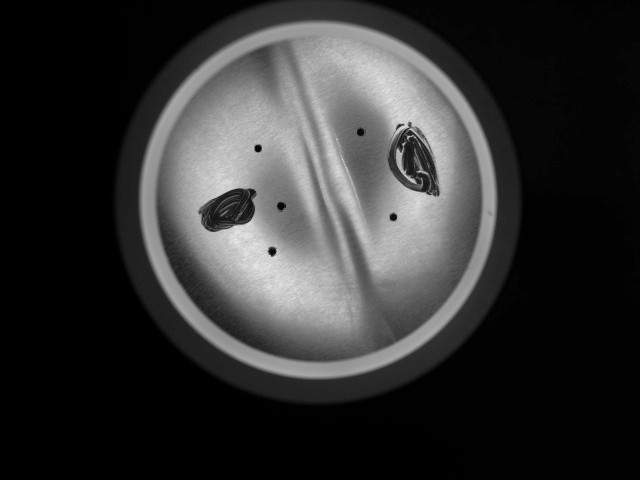zang_wu: (383, 110, 447, 206), (194, 178, 273, 237)
zhe_zhou: (274, 46, 386, 336)
zhen_kong: (247, 137, 271, 163), (270, 195, 296, 219), (263, 241, 287, 265), (383, 205, 406, 229), (348, 122, 373, 144)
